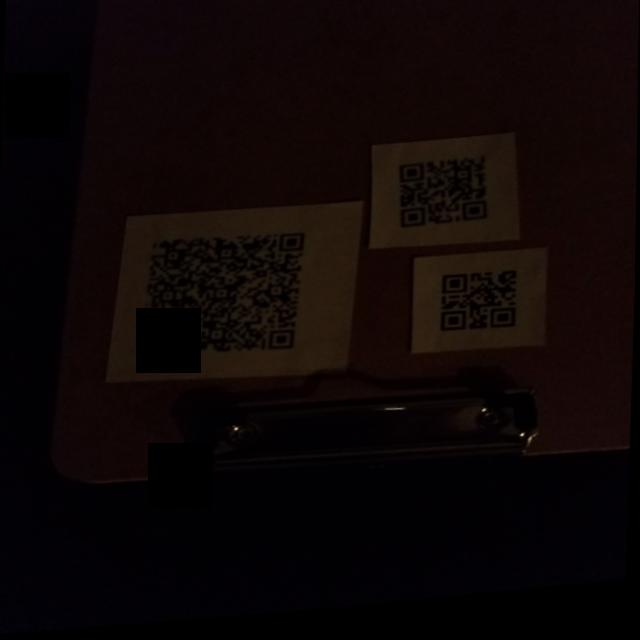QR_CODE: (125, 223, 318, 382), (387, 152, 507, 251), (428, 266, 536, 355)
